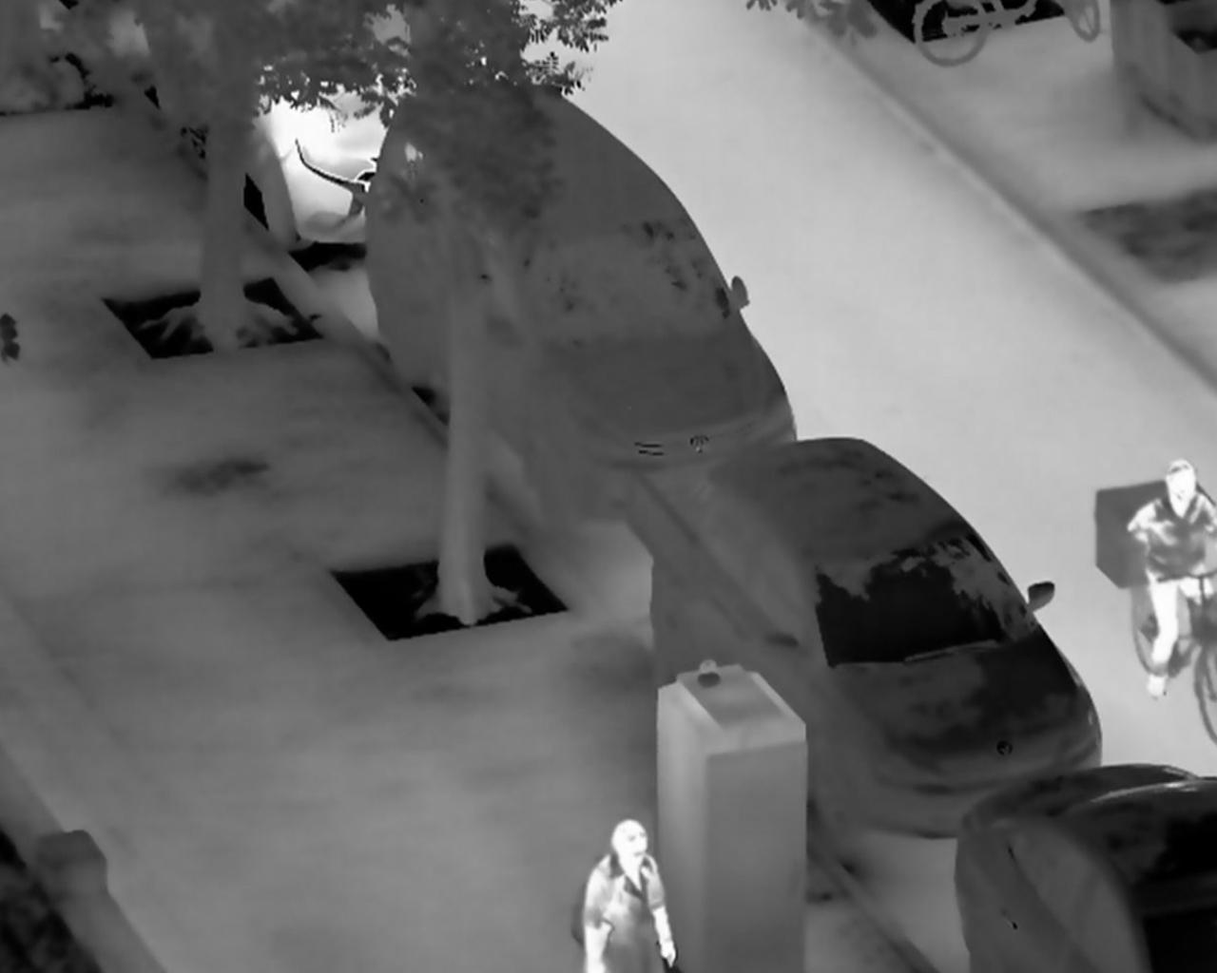person: (1126, 458, 1217, 698), (578, 817, 677, 973)
